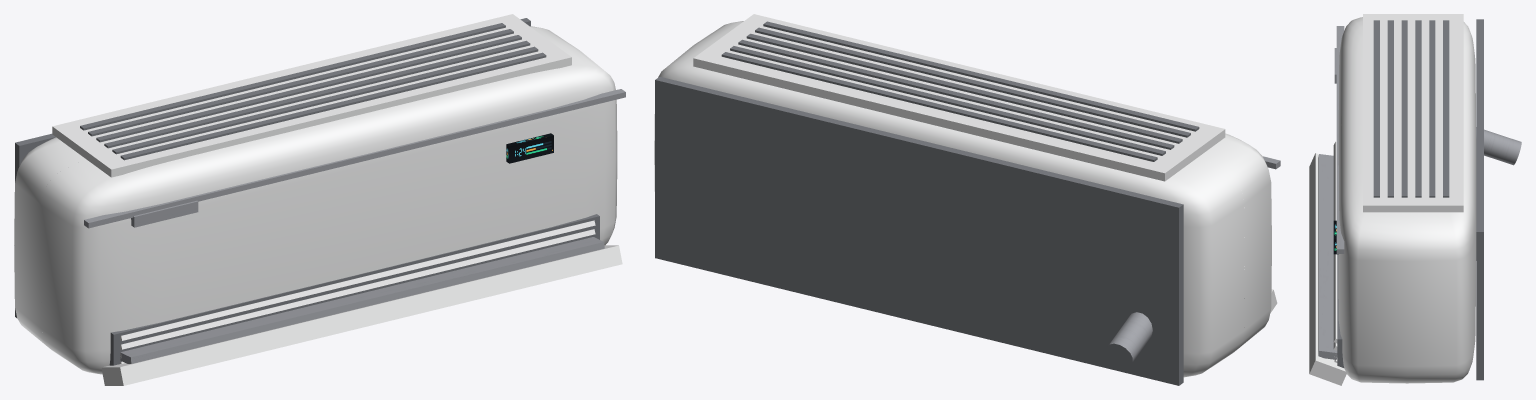
The model's file is air-conditioner.glb.
3 views of the same model, side by side, from view 1: azimuth 30°, elevation 25°; view 2: azimuth 150°, elevation 25°; view 3: azimuth 270°, elevation 25° (orthographic). The views are drawn at different scales.
Parts seen in each view (by area): view 1: body, intake-grille, intake-slat (×6), louver, swing-vane, outlet-slat (×2), air-outlet, filter-line, display, brand, wall-plate; view 2: wall-plate, body, intake-grille, intake-slat (×6), pipe; view 3: body, intake-grille, intake-slat (×6), swing-vane, wall-plate, louver, pipe, filter-line, outlet-slat, air-outlet.
Boxes of the visible parts, <box> form: body: <box>14,26,617,374</box>; intake-grille: <box>52,14,571,177</box>; intake-slat (×6): <box>80,23,546,160</box>; louver: <box>101,245,622,385</box>; swing-vane: <box>120,237,604,363</box>; outlet-slat (×2): <box>120,220,595,349</box>; air-outlet: <box>109,214,599,365</box>; filter-line: <box>84,89,625,228</box>; display: <box>506,133,553,163</box>; brand: <box>131,200,198,227</box>; wall-plate: <box>15,18,530,317</box>; wall-plate: <box>655,76,1183,385</box>; body: <box>654,21,1271,377</box>; intake-grille: <box>693,14,1225,181</box>; intake-slat (×6): <box>721,21,1199,161</box>; pipe: <box>1107,312,1152,361</box>; body: <box>1338,17,1476,383</box>; intake-grille: <box>1363,14,1463,212</box>; intake-slat (×6): <box>1373,20,1449,197</box>; swing-vane: <box>1318,154,1337,359</box>; wall-plate: <box>1476,19,1483,380</box>; louver: <box>1309,153,1346,385</box>; pipe: <box>1476,127,1521,165</box>; filter-line: <box>1336,26,1344,253</box>; outlet-slat: <box>1333,141,1337,343</box>; air-outlet: <box>1337,254,1344,367</box>.
Size of the model in its own units: 0.86 by 0.311 by 0.3372.
Materials: 5 (2 with a texture image).
